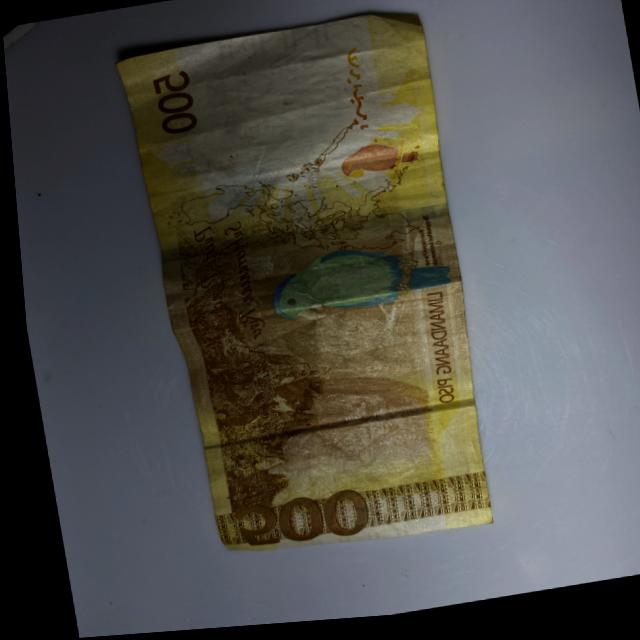500_big_parrot: (254, 235, 448, 332)
500_parrot_watermark: (332, 143, 420, 189)
value_watermark: (259, 53, 323, 83)
watermark: (178, 51, 351, 171)
